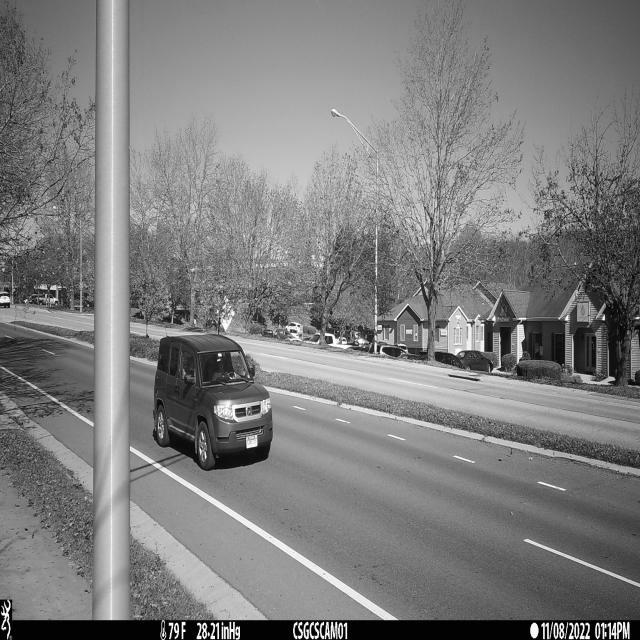SUV: (153, 334, 272, 470)
